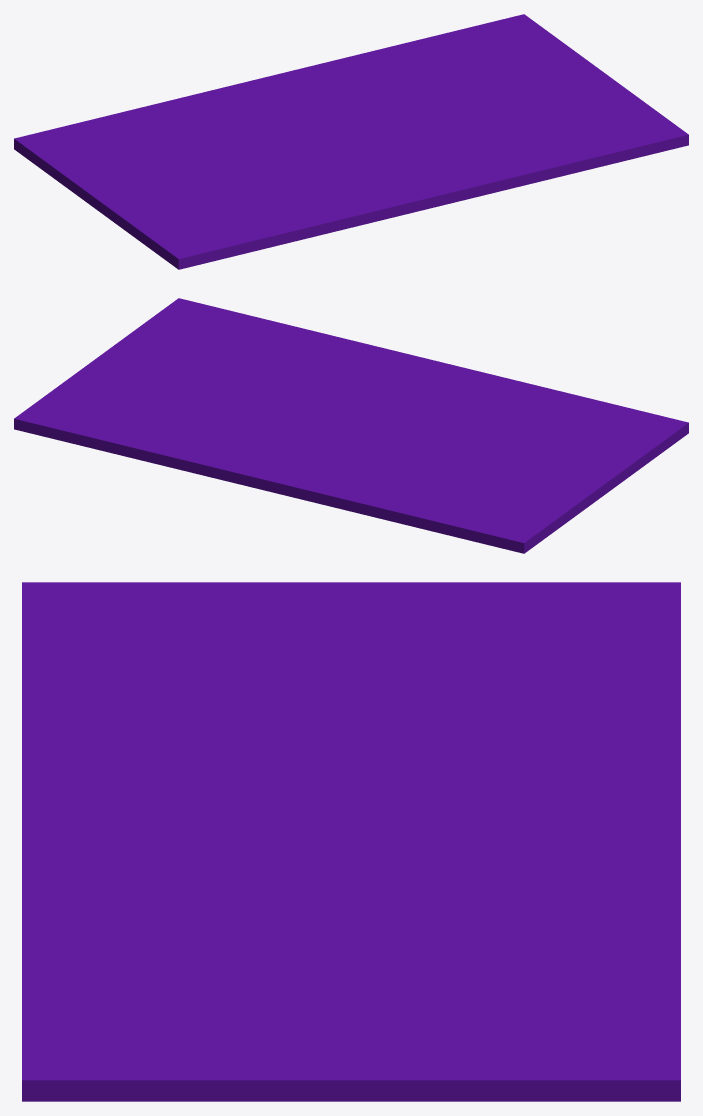
Rendered from Exhibition_19.002_chunks.fbx.
The picture shows the model from 3 angles, top to bottom: view 1: azimuth 30°, elevation 25°; view 2: azimuth 150°, elevation 25°; view 3: azimuth 270°, elevation 25°; orthographic projection. The views are drawn at different scales.
Visible parts, largest first — view 1: Exhibition_19.002_2, Exhibition_19.002_0, Exhibition_19.002_1, Exhibition_19.002_3; view 2: Exhibition_19.002_2, Exhibition_19.002_1, Exhibition_19.002_0, Exhibition_19.002_3; view 3: Exhibition_19.002_2, Exhibition_19.002_1, Exhibition_19.002_0, Exhibition_19.002_3.
Boxes of the visible parts, bbox=[...] form: Exhibition_19.002_2: bbox=[352, 14, 688, 194]; Exhibition_19.002_0: bbox=[81, 145, 486, 269]; Exhibition_19.002_1: bbox=[14, 50, 376, 198]; Exhibition_19.002_3: bbox=[314, 134, 425, 164]; Exhibition_19.002_2: bbox=[14, 298, 384, 465]; Exhibition_19.002_1: bbox=[161, 421, 594, 553]; Exhibition_19.002_0: bbox=[372, 348, 688, 503]; Exhibition_19.002_3: bbox=[346, 379, 387, 429]; Exhibition_19.002_2: bbox=[22, 834, 680, 1101]; Exhibition_19.002_1: bbox=[354, 582, 680, 935]; Exhibition_19.002_0: bbox=[22, 582, 400, 878]; Exhibition_19.002_3: bbox=[162, 795, 360, 857].
Bounding box in the file's own units: 642 × 12.85 × 359.
